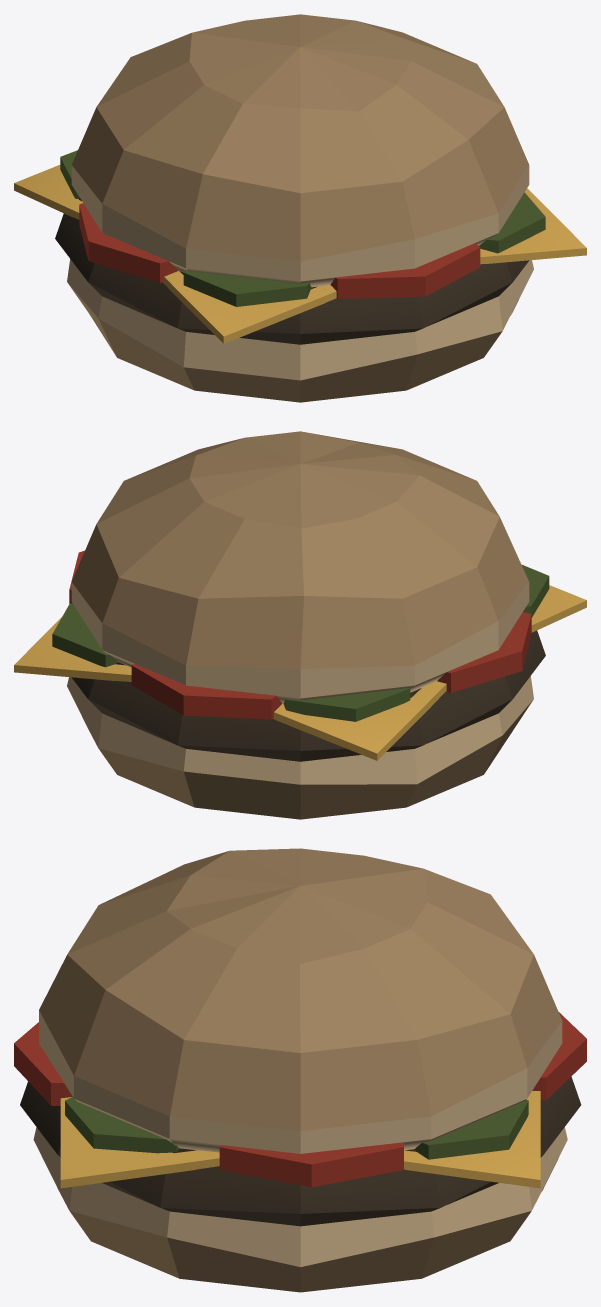
The model's file is SM_Prop_LargeSign_Burger_01.glb.
3 views of the same model, one above another, from view 1: azimuth 30°, elevation 25°; view 2: azimuth 150°, elevation 25°; view 3: azimuth 270°, elevation 25° (orthographic). The views are drawn at different scales.
Visible parts, largest first — view 1: SM_Prop_LargeSign_Burger_01; view 2: SM_Prop_LargeSign_Burger_01; view 3: SM_Prop_LargeSign_Burger_01.
Part boxes in pixels (x1,y1,x2,y2): SM_Prop_LargeSign_Burger_01: (14, 14, 586, 402); SM_Prop_LargeSign_Burger_01: (14, 431, 586, 819); SM_Prop_LargeSign_Burger_01: (14, 848, 586, 1292).
Size of the model in its own units: 0.0372 by 0.0218 by 0.0372.
1 material, 1 textured.
